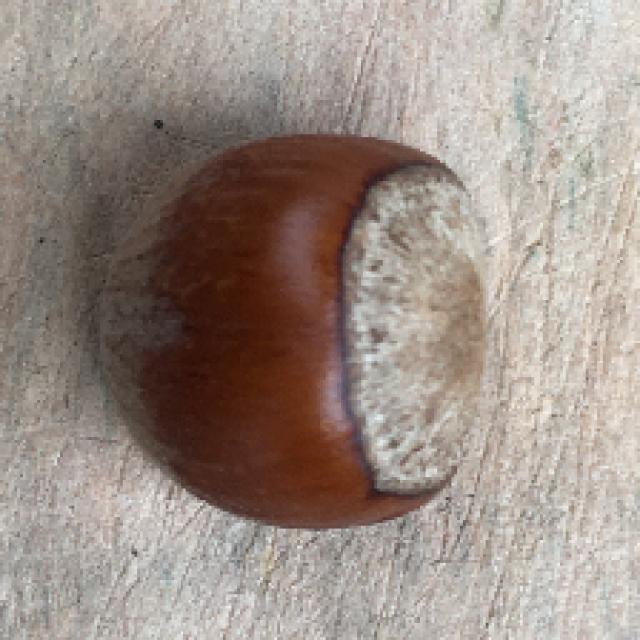qualityHazelnut: (90, 128, 504, 533)
